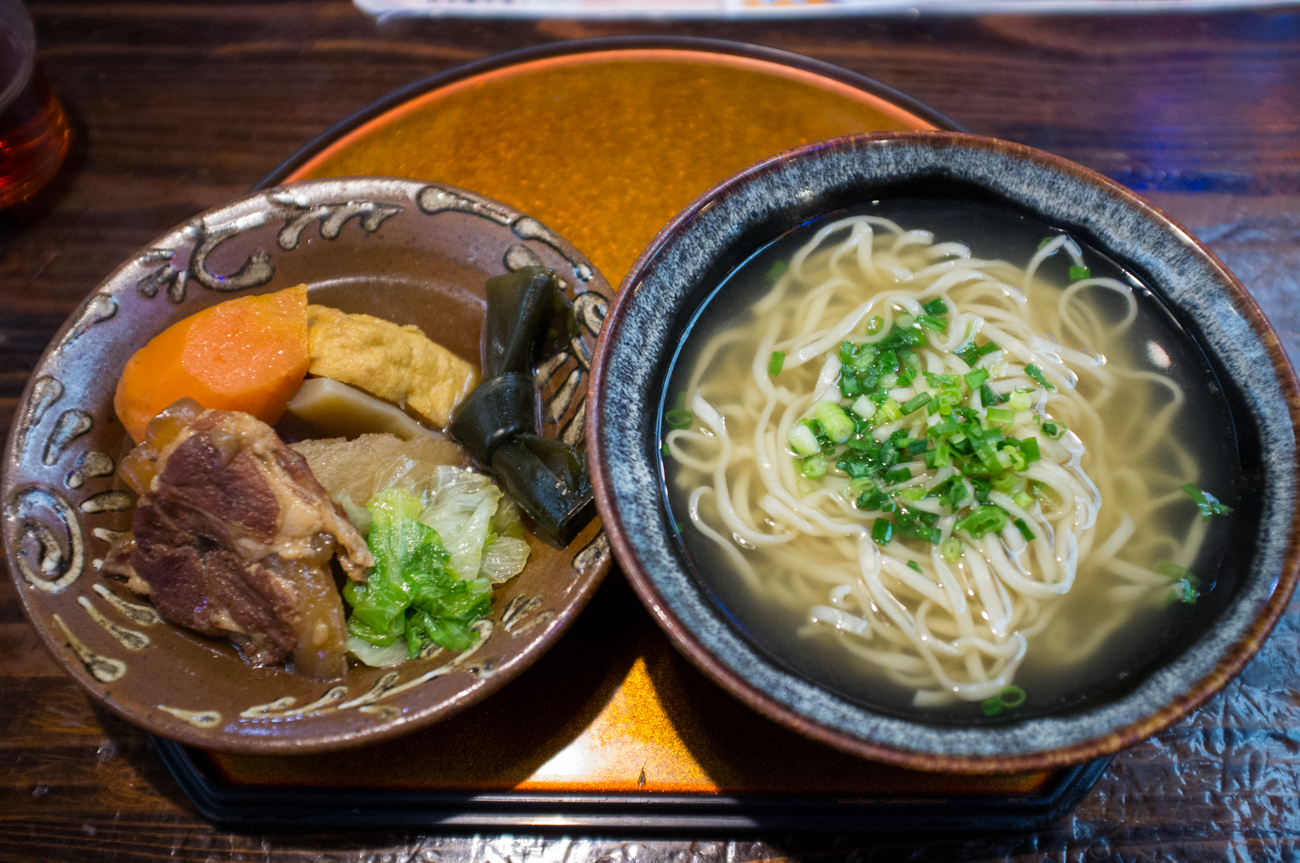Soba: (705, 216, 1212, 706)
